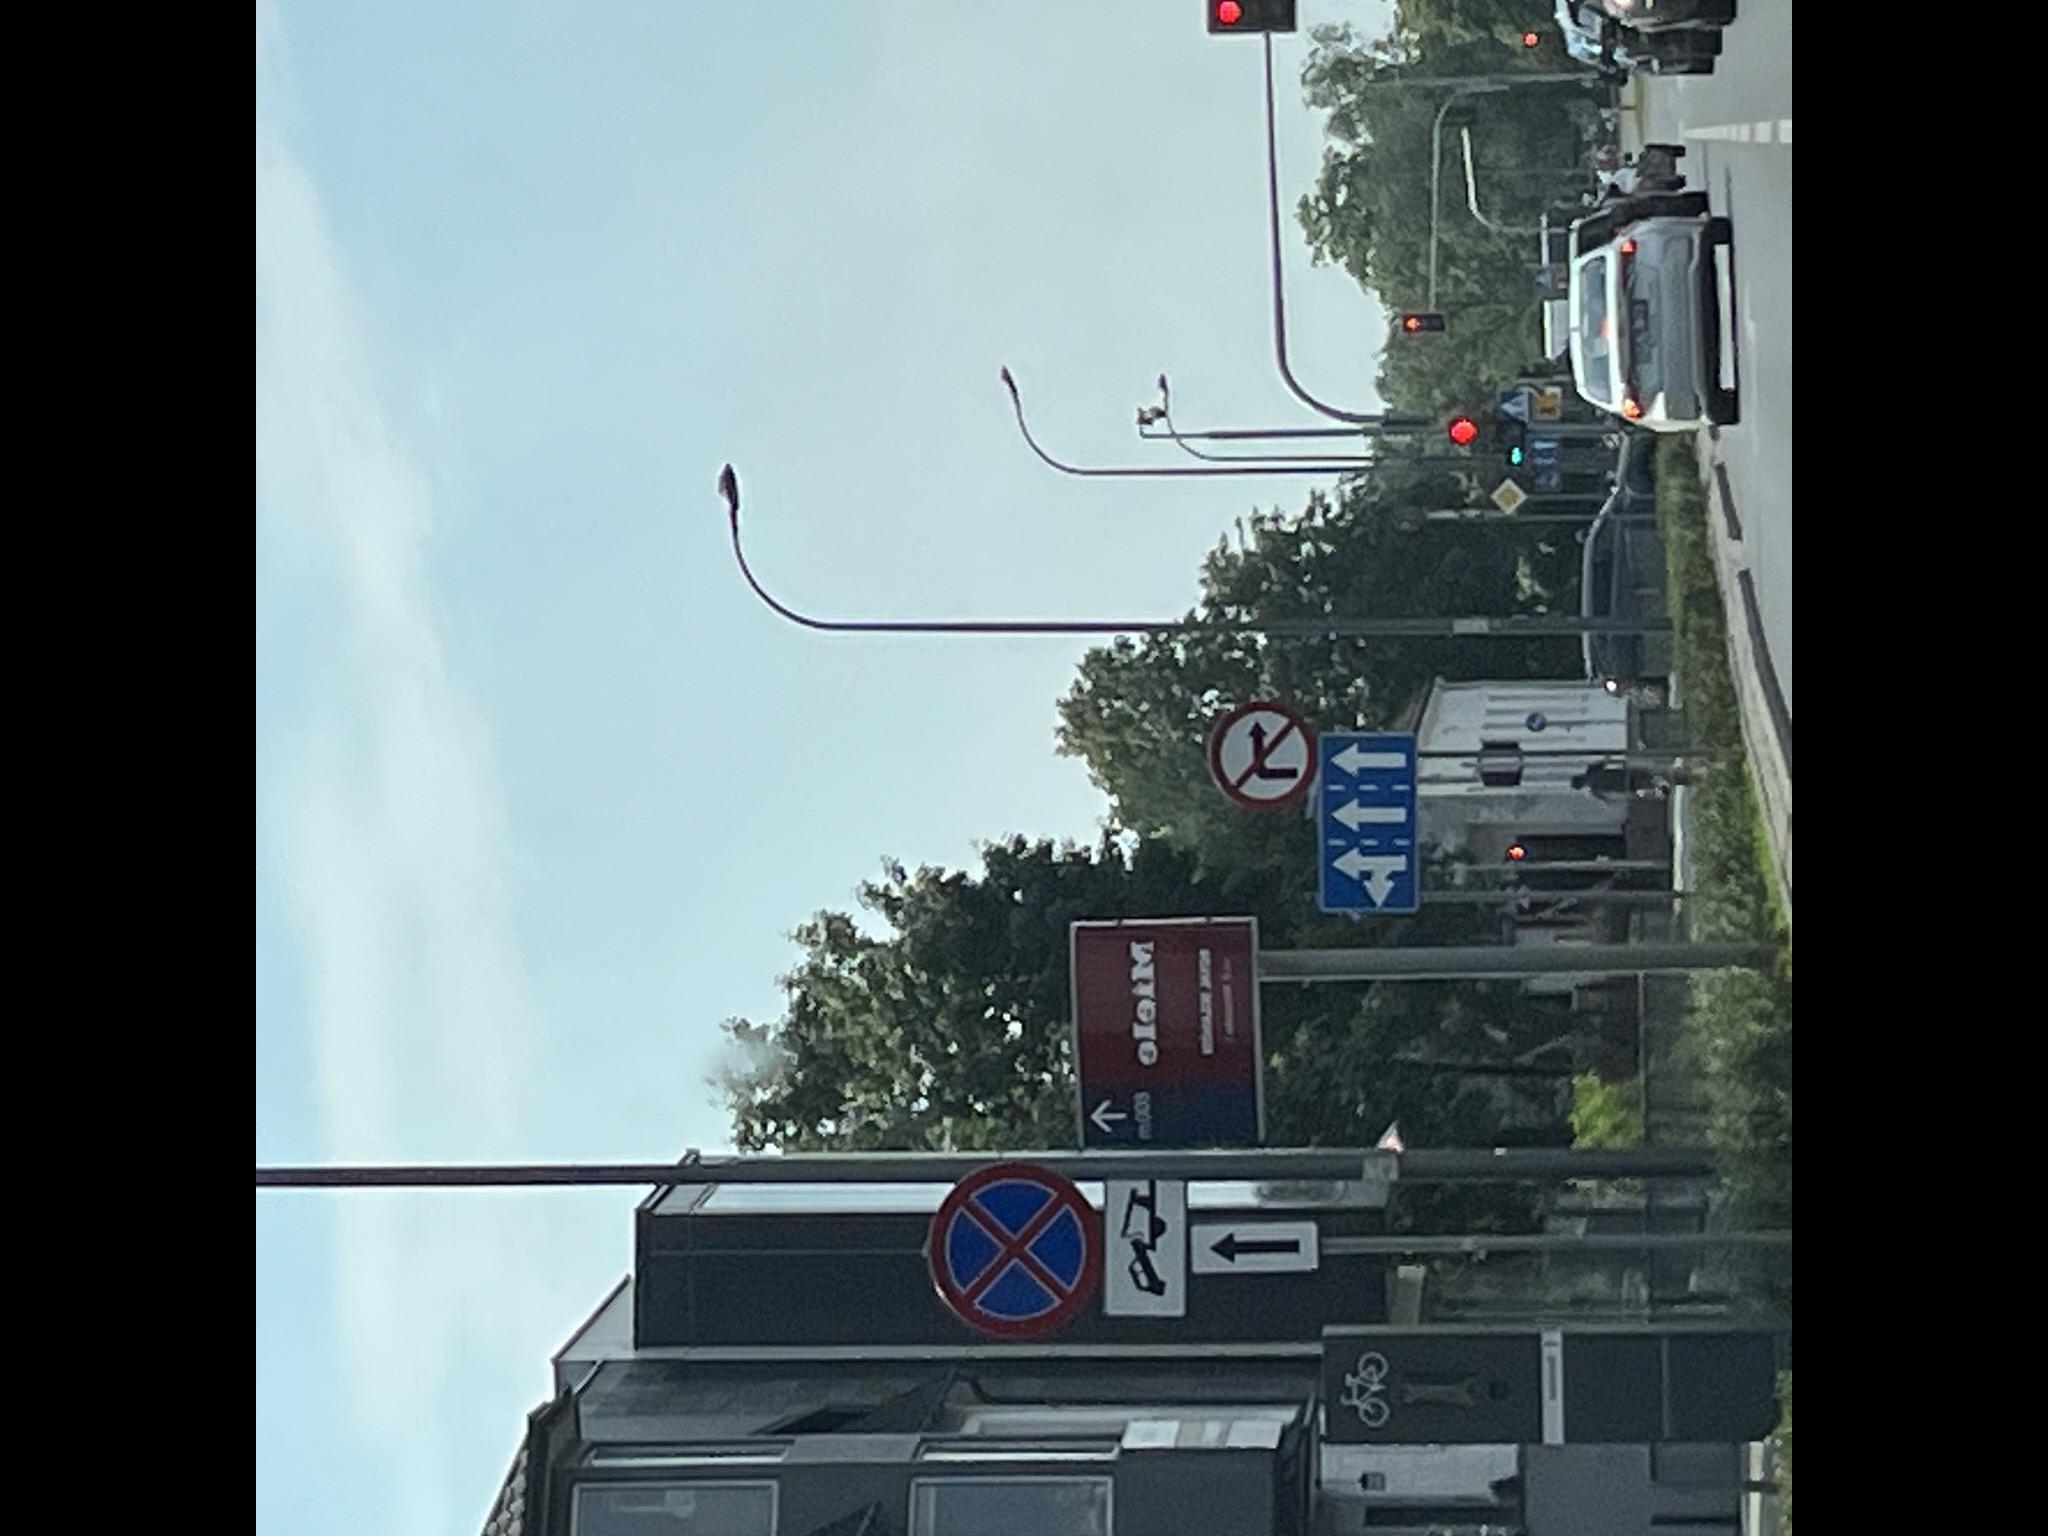information: (1490, 478, 1527, 515)
other: (1321, 734, 1413, 910), (1106, 1179, 1184, 1318), (1192, 1221, 1317, 1268)
prohibitory: (924, 1158, 1105, 1342), (1208, 700, 1319, 807)
